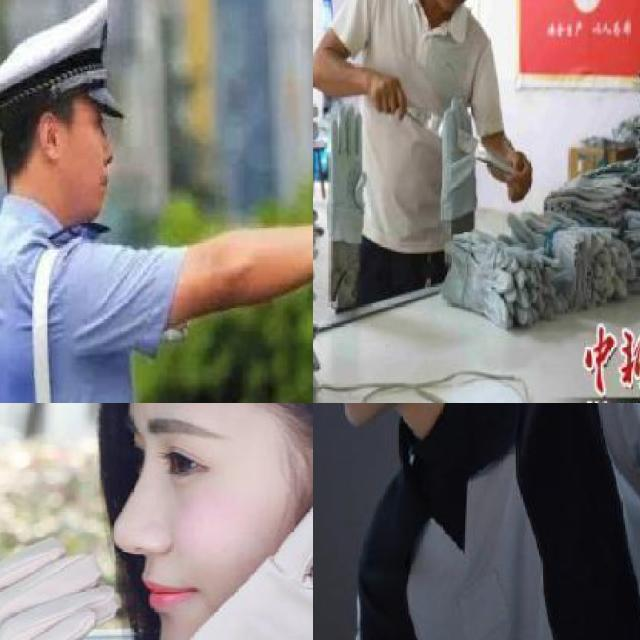No_Ear-Protection: (36, 110, 62, 163)
face_nomask: (90, 403, 310, 640), (43, 97, 134, 230)
hand_glove: (183, 467, 313, 640), (0, 534, 117, 640)
hand_noglove: (368, 70, 407, 120), (504, 148, 531, 202)
head_nohelmet: (0, 0, 126, 119)
person: (0, 22, 283, 403), (313, 403, 640, 640), (313, 0, 547, 309)
